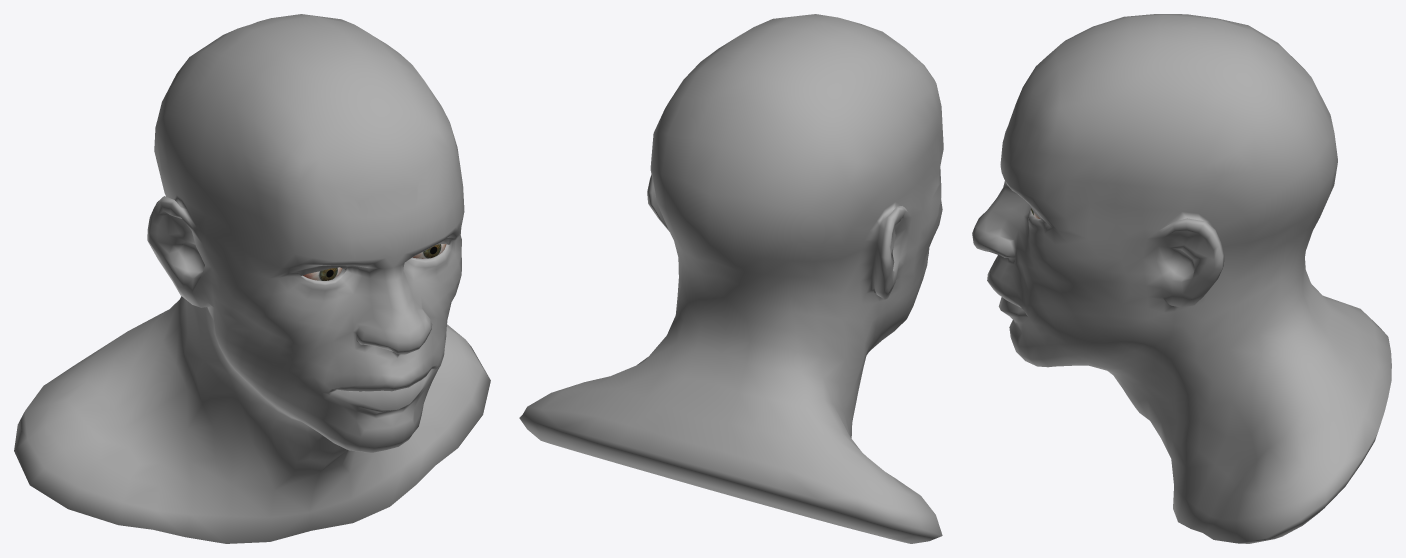
The model's file is LampSSSTestModel.fbx.
The picture shows the model from 3 angles, left to right: view 1: azimuth 30°, elevation 25°; view 2: azimuth 150°, elevation 25°; view 3: azimuth 270°, elevation 25°; orthographic projection. The views are drawn at different scales.
Visible parts, largest first — view 1: FaceMesh, EyeSpheres; view 2: FaceMesh; view 3: FaceMesh.
Part boxes in pixels (x1=…): FaceMesh: x1=14, y1=14, x2=490, y2=543; EyeSpheres: x1=303, y1=244, x2=446, y2=280; FaceMesh: x1=519, y1=14, x2=943, y2=543; FaceMesh: x1=972, y1=14, x2=1391, y2=543.
Size of the model in its own units: 0.3406 by 0.363 by 0.2972.
